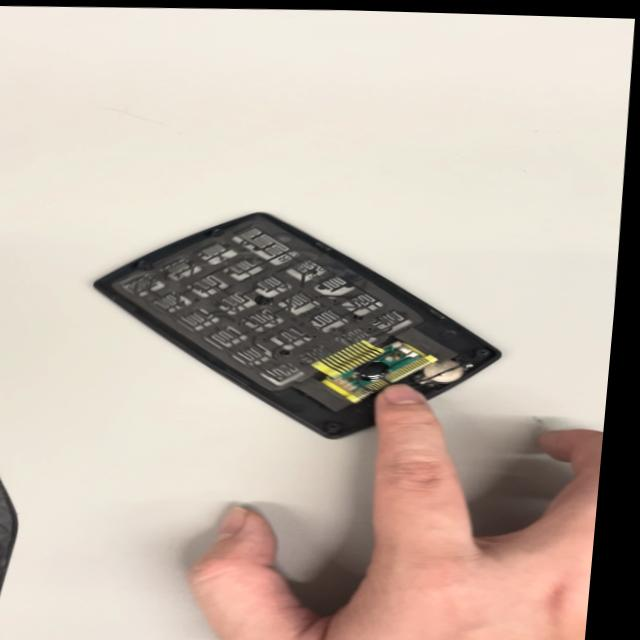front_panel: (76, 193, 502, 454)
